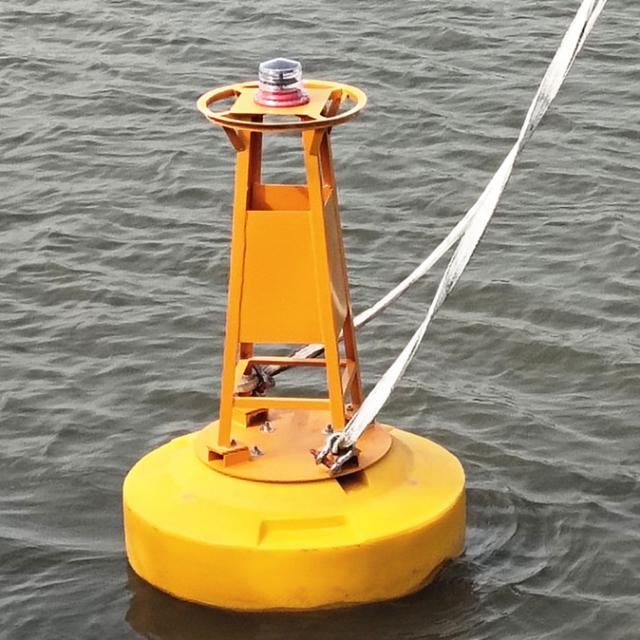buoy: (115, 56, 483, 604)
